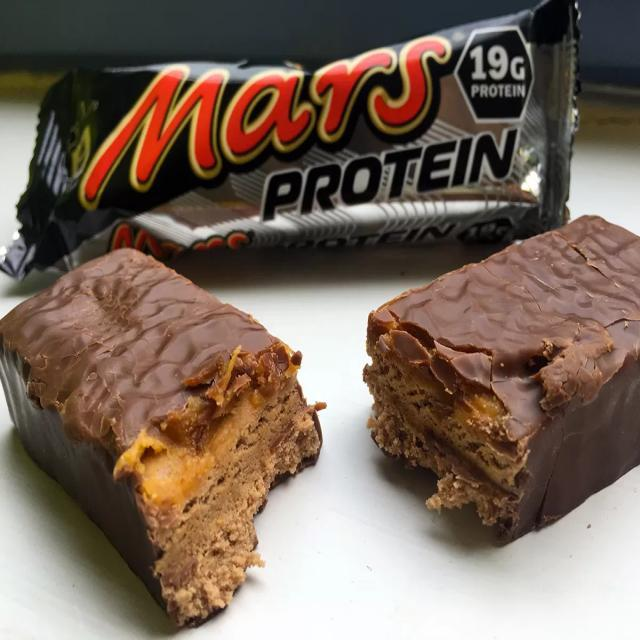Chocolate bar: (8, 1, 586, 265)
Chocolate bar packaged: (0, 242, 326, 636), (368, 215, 640, 551)
